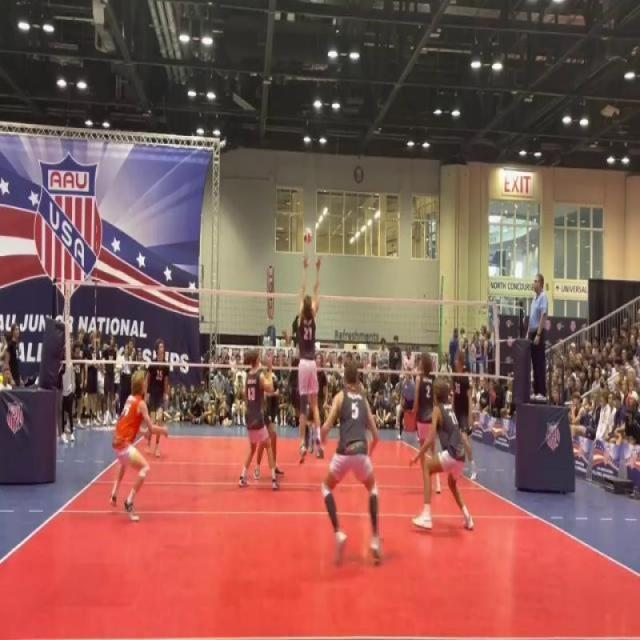volleyball: (302, 226, 314, 247)
